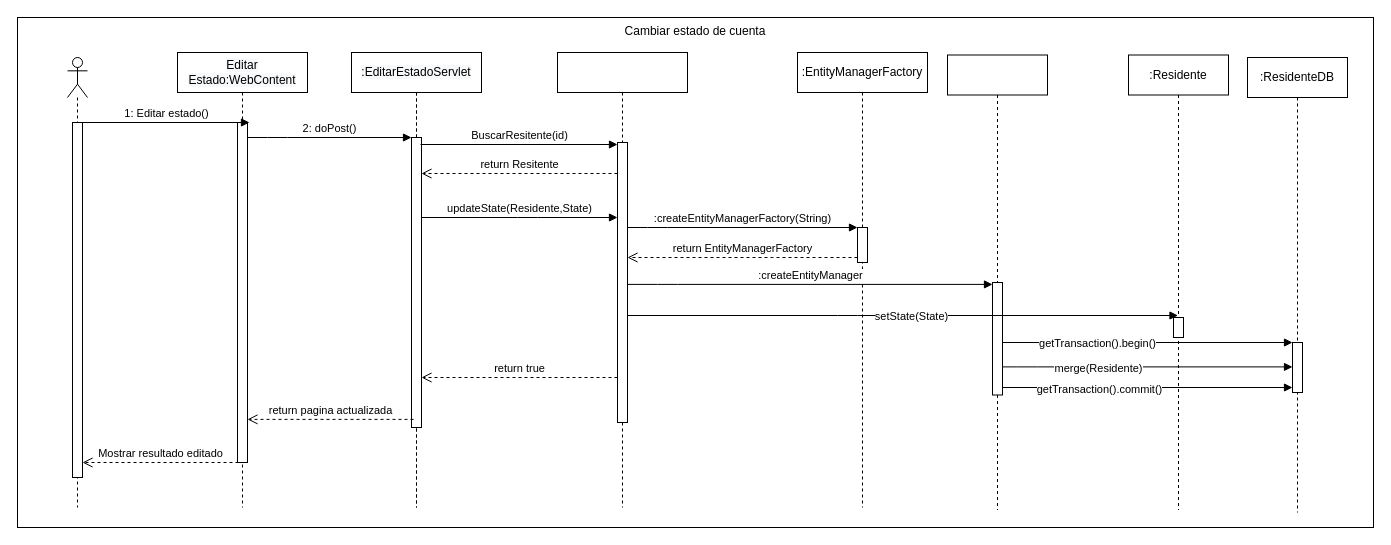
Image size: 1391x545. Some labels were removed from this diagram. Each missing label, with the box of its shape:
:Administrador: (66, 56, 88, 508)
:EntityManager: (946, 54, 1048, 510)
:ManagerResidentes: (556, 52, 688, 508)
